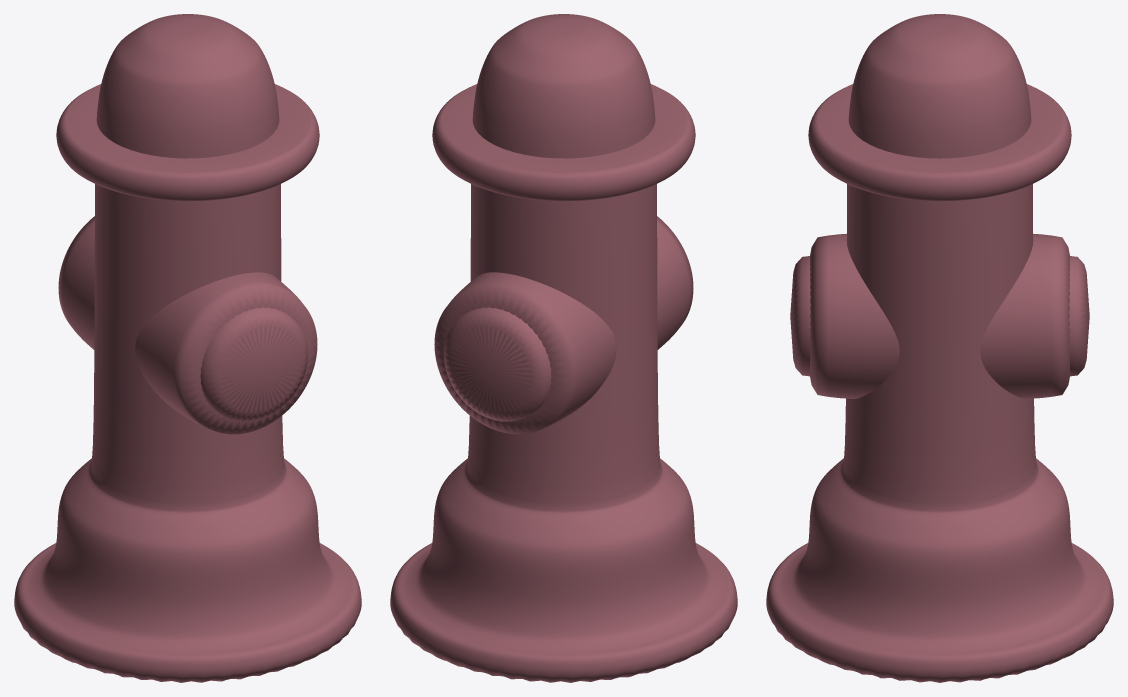
Rendered from fire hydrant.fbx.
3 views of the same model, side by side, from view 1: azimuth 30°, elevation 25°; view 2: azimuth 150°, elevation 25°; view 3: azimuth 270°, elevation 25° (orthographic).
Visible parts, largest first — view 1: pasted__polySurface965; view 2: pasted__polySurface965; view 3: pasted__polySurface965.
Boxes of the visible parts, <box> form: pasted__polySurface965: <box>14,14,361,682</box>; pasted__polySurface965: <box>390,14,737,682</box>; pasted__polySurface965: <box>766,14,1113,682</box>.
Size of the model in its own units: 1.99 by 3.79 by 1.99.
